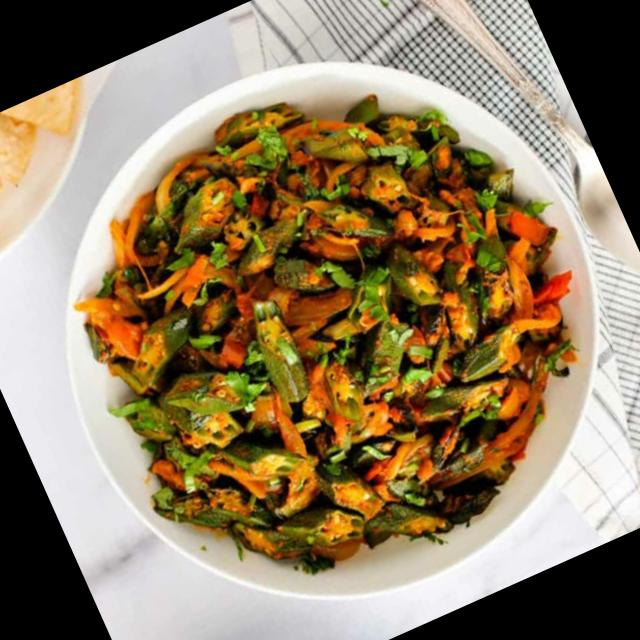BhindiMasala: (17, 13, 640, 639)
